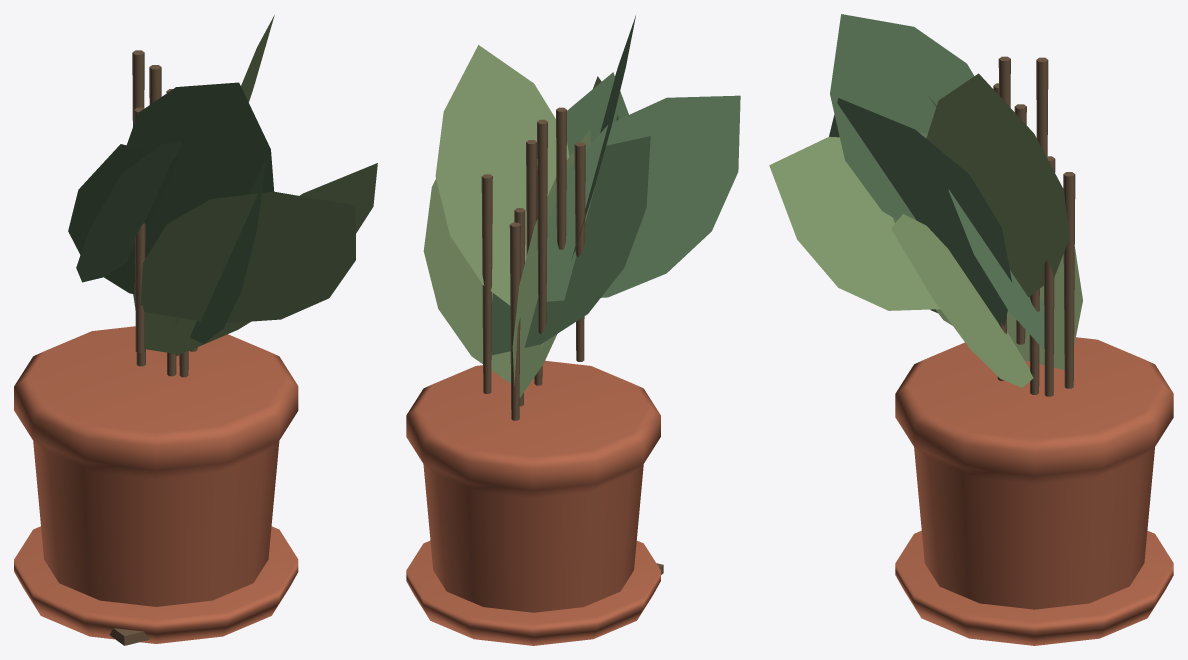
The model's file is plantsmall1.glb.
The picture shows the model from 3 angles, left to right: view 1: azimuth 30°, elevation 25°; view 2: azimuth 150°, elevation 25°; view 3: azimuth 270°, elevation 25°; orthographic projection. The views are drawn at different scales.
Parts seen in each view (by area): view 1: atelier-warm-plantsmall1; view 2: atelier-warm-plantsmall1; view 3: atelier-warm-plantsmall1.
Part boxes in pixels (x1,y1,x2,y2): atelier-warm-plantsmall1: (14, 15, 377, 645); atelier-warm-plantsmall1: (406, 15, 740, 645); atelier-warm-plantsmall1: (769, 14, 1173, 645).
Bounding box in the file's own units: 0.5648 × 1 × 0.6442.
